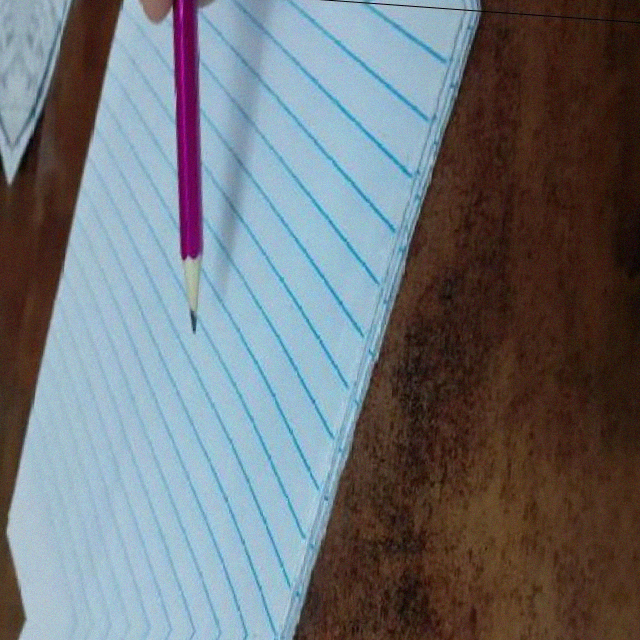pencil: (170, 255, 209, 336)
